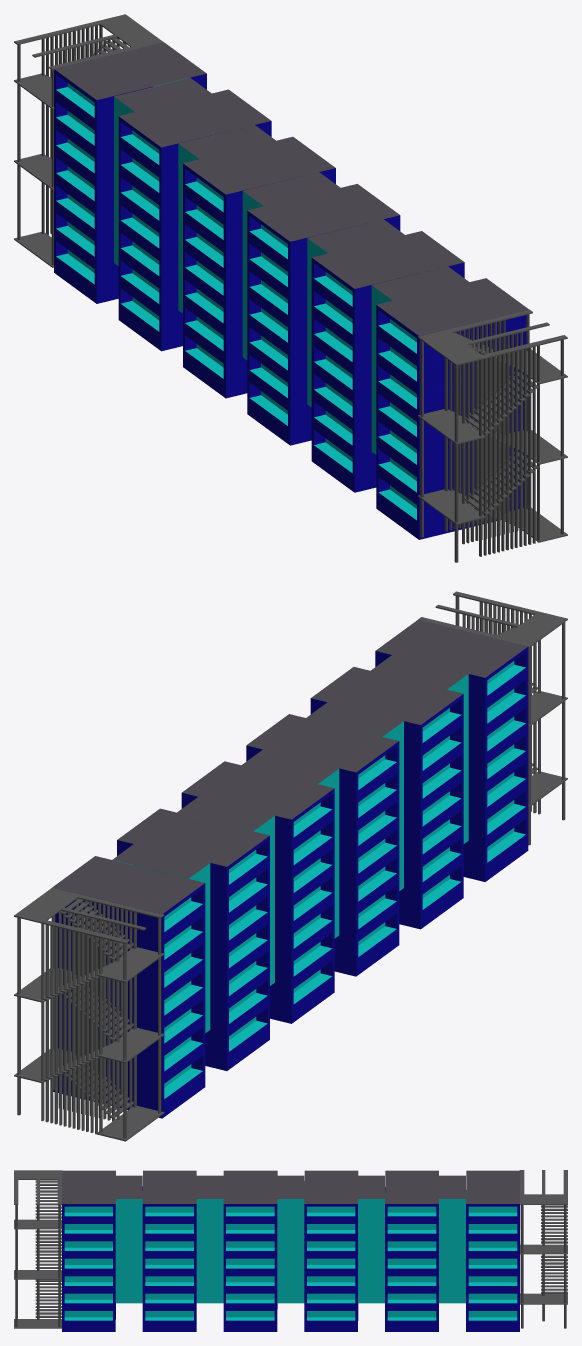
Rendered from building.fbx.
3 views of the same model, one above another, from view 1: azimuth 30°, elevation 25°; view 2: azimuth 150°, elevation 25°; view 3: azimuth 270°, elevation 25° (orthographic). The views are drawn at different scales.
Visible parts, largest first — view 1: オブジェクト, 立方体.010, 立方体.011, p1.002; view 2: オブジェクト, 立方体.010, 立方体.011, p1.002; view 3: オブジェクト, 立方体.011, p1.002, 立方体.010.
Part boxes in pixels (x1,y1,x2,y2): オブジェクト: (114, 78, 528, 539); 立方体.010: (17, 25, 563, 562); 立方体.011: (54, 42, 206, 303); p1.002: (14, 14, 567, 542); オブジェクト: (112, 619, 528, 1070); 立方体.010: (17, 596, 565, 1138); 立方体.011: (52, 856, 205, 1118); p1.002: (14, 591, 567, 1141); オブジェクト: (62, 1170, 465, 1331); 立方体.011: (466, 1170, 520, 1331); p1.002: (14, 1170, 567, 1328); 立方体.010: (15, 1205, 566, 1328).
Size of the model in its own units: 2114 by 3670 by 14420.
